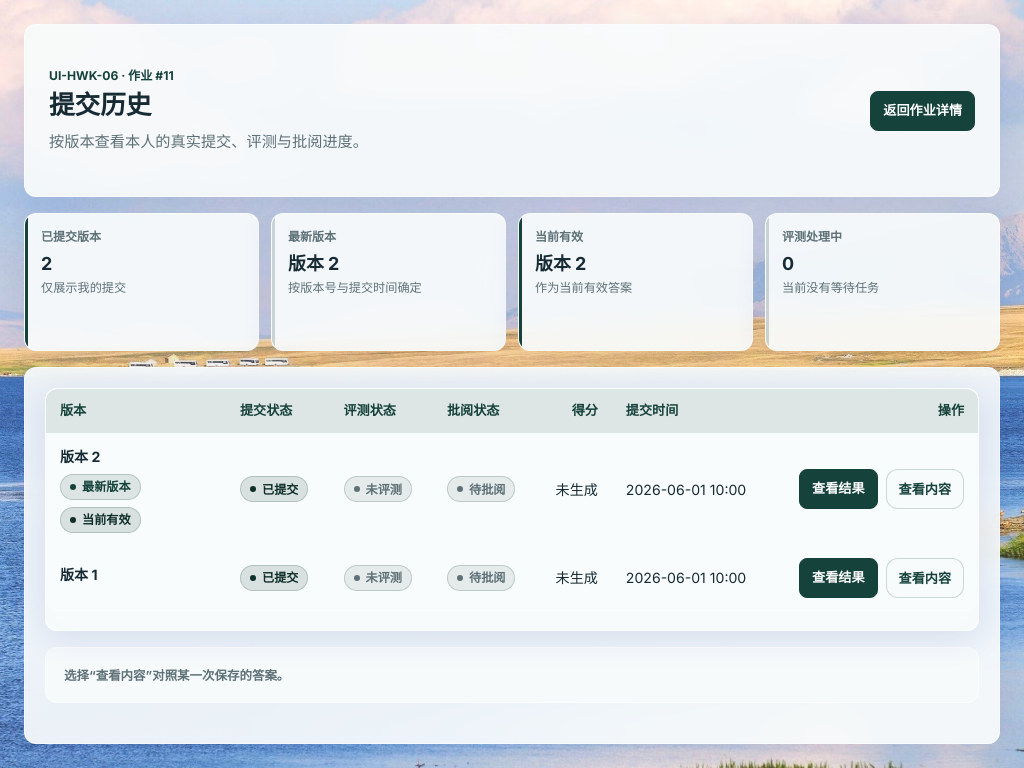
Test: HomeworkSubmissionHistoryView › loads student history and marks the current effective submission
Click the 1st button "查看内容" at (925, 489), box [886, 469, 964, 509]
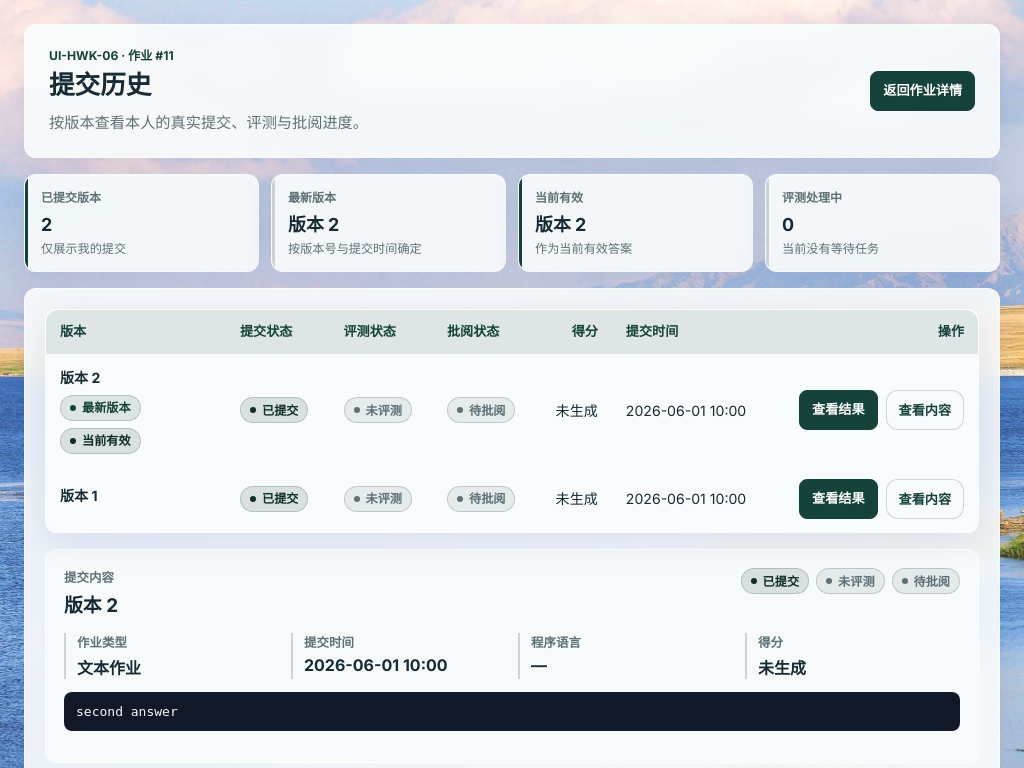
Expected: the text "second answer" is shown, [64, 692, 960, 731]
